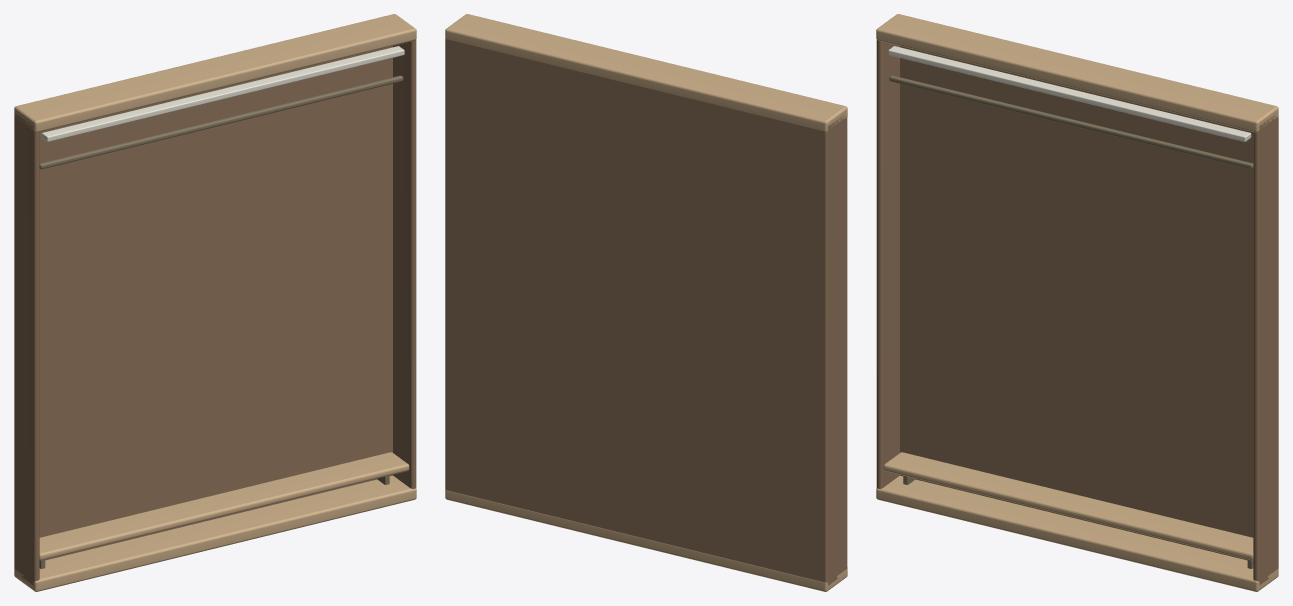
File: wall_sports.glb
3 views of the same model, side by side, from view 1: azimuth 30°, elevation 25°; view 2: azimuth 150°, elevation 25°; view 3: azimuth 330°, elevation 25° (orthographic).
Parts seen in each view (by area): view 1: Closed back, seated against existing opaque boundary, Bottom / crown.001, Outer stile, Bottom / crown, Outer stile.001, Load-bearing shelf, Integrated light diffuser, Hanging rail; view 2: Closed back, seated against existing opaque boundary, Bottom / crown.001, Outer stile, Bottom / crown; view 3: Closed back, seated against existing opaque boundary, Bottom / crown.001, Outer stile.001, Bottom / crown, Outer stile, Load-bearing shelf, Integrated light diffuser, Hanging rail.
Boxes of the visible parts, x1,y1,x2,y2 form: Closed back, seated against existing opaque boundary: (14,46,392,568); Bottom / crown.001: (14,14,416,132); Outer stile: (15,113,39,584); Bottom / crown: (14,475,416,591); Outer stile.001: (393,40,416,488); Load-bearing shelf: (39,452,409,560); Integrated light diffuser: (41,46,404,141); Hanging rail: (39,75,403,169); Closed back, seated against existing opaque boundary: (445,39,828,585); Bottom / crown.001: (445,14,847,131); Outer stile: (828,115,847,584); Bottom / crown: (445,490,847,591); Closed back, seated against existing opaque boundary: (900,46,1278,568); Bottom / crown.001: (876,14,1278,132); Outer stile.001: (1253,115,1277,584); Bottom / crown: (876,475,1278,591); Outer stile: (876,40,899,488); Load-bearing shelf: (883,452,1253,560); Integrated light diffuser: (888,46,1251,141); Hanging rail: (889,75,1253,169).
Bounding box in the file's own units: 2 × 2.36 × 0.2.
